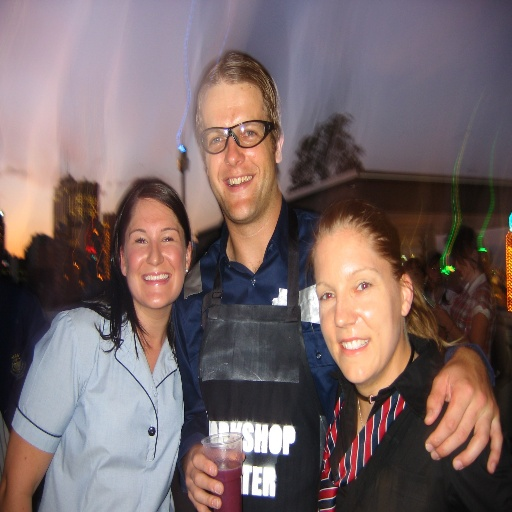hand: (422, 335, 505, 487), (182, 442, 246, 511)
